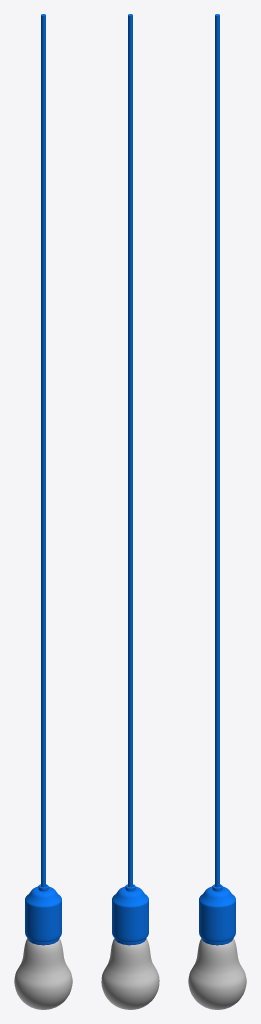
The model's file is BLOB_LAMP.fbx.
3 renders of one model, left to right at view 1: azimuth 90°, elevation 25°; view 2: azimuth 150°, elevation 25°; view 3: azimuth 270°, elevation 25°, orthographic.
Visible parts, largest first — view 1: ALL_LAMP; view 2: ALL_LAMP; view 3: ALL_LAMP.
Part boxes in pixels (box(x1,y1,x2,y2)): ALL_LAMP: box(14, 14, 72, 1009); ALL_LAMP: box(101, 14, 159, 1009); ALL_LAMP: box(188, 14, 246, 1009).
Bounding box in the file's own units: 15.64 × 294 × 15.64.
